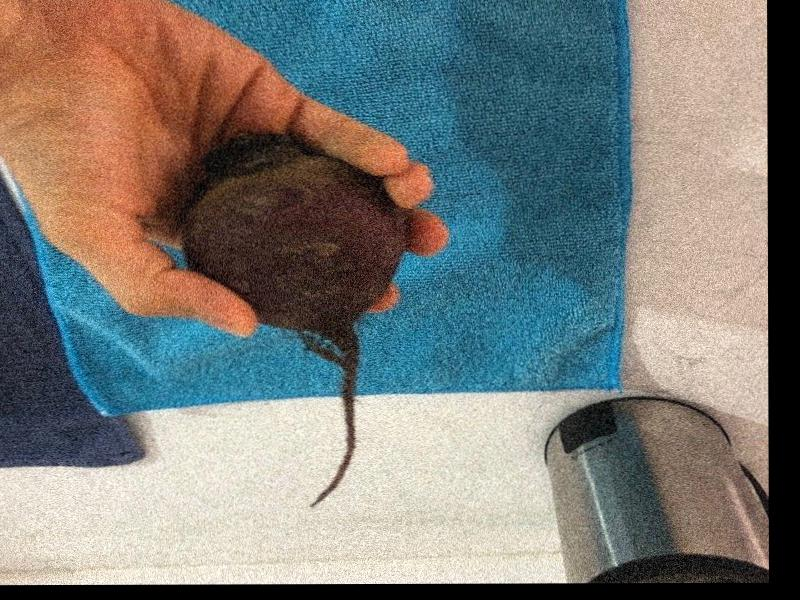Beet: (181, 131, 409, 506)
